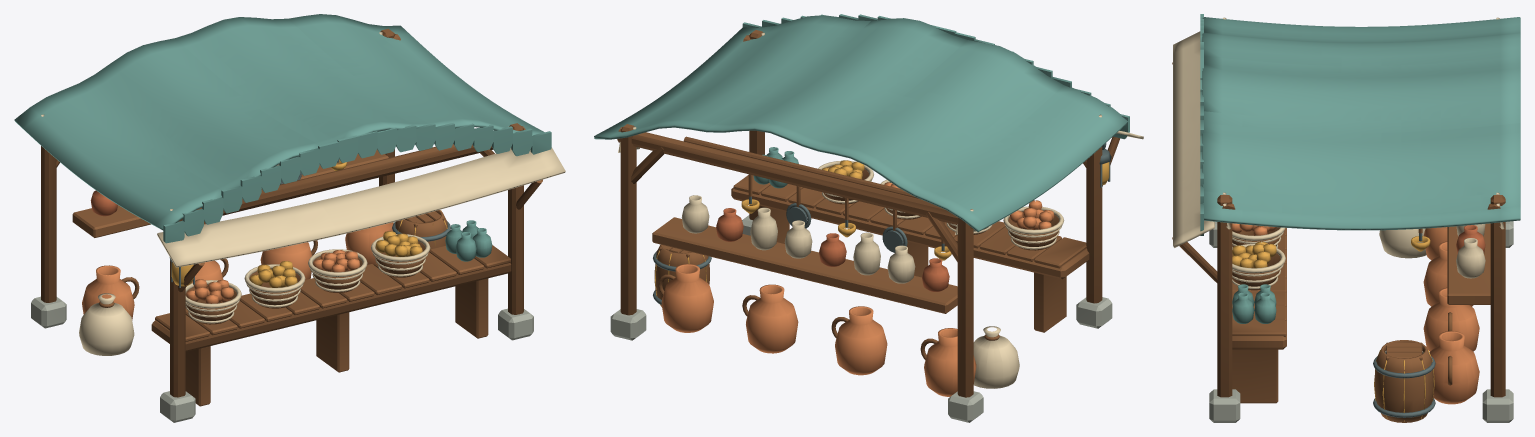
File: village-market.glb
The picture shows the model from 3 angles, left to right: view 1: azimuth 30°, elevation 25°; view 2: azimuth 150°, elevation 25°; view 3: azimuth 270°, elevation 25°; orthographic projection. The views are drawn at different scales.
Parts seen in each view (by area): view 1: HERO_market_batch_canvas, HERO_market_batch_timber, HERO_market_batch_plaster, HERO_market_batch_tileLight, HERO_market_batch_stone.001, HERO_market_batch_brass; view 2: HERO_market_batch_canvas, HERO_market_batch_timber, HERO_market_batch_tileLight, HERO_market_batch_plaster, HERO_market_batch_stone.001, HERO_market_batch_tile, HERO_market_batch_iron, HERO_market_batch_brass; view 3: HERO_market_batch_canvas, HERO_market_batch_timber, HERO_market_batch_plaster, HERO_market_batch_tileLight, HERO_market_batch_stone.001, HERO_market_batch_brass, HERO_market_batch_iron, HERO_market_batch_tile.
Part boxes in pixels (x1,y1,x2,y2): HERO_market_batch_canvas: (14,14,551,261); HERO_market_batch_timber: (41,28,542,406); HERO_market_batch_plaster: (41,32,565,355); HERO_market_batch_tileLight: (82,222,393,320); HERO_market_batch_stone.001: (31,222,533,422); HERO_market_batch_brass: (171,159,447,287); HERO_market_batch_canvas: (594,14,1129,231); HERO_market_batch_timber: (617,30,1120,397); HERO_market_batch_tileLight: (661,182,1054,396); HERO_market_batch_plaster: (618,32,1143,388); HERO_market_batch_stone.001: (610,215,1112,422); HERO_market_batch_tile: (716,208,949,291); HERO_market_batch_iron: (653,143,1111,304); HERO_market_batch_brass: (654,160,1109,305); HERO_market_batch_canvas: (1200,14,1520,323); HERO_market_batch_timber: (1172,62,1505,422); HERO_market_batch_plaster: (1173,17,1504,288); HERO_market_batch_tileLight: (1232,223,1479,404); HERO_market_batch_stone.001: (1209,221,1513,422); HERO_market_batch_brass: (1232,236,1434,421); HERO_market_batch_iron: (1373,233,1435,417); HERO_market_batch_tile: (1456,225,1485,253).
Bounding box in the file's own units: 6.44 × 3.96 × 4.72.
